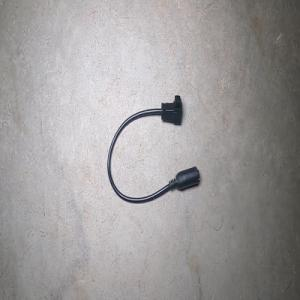Wire: (107, 95, 200, 203)
